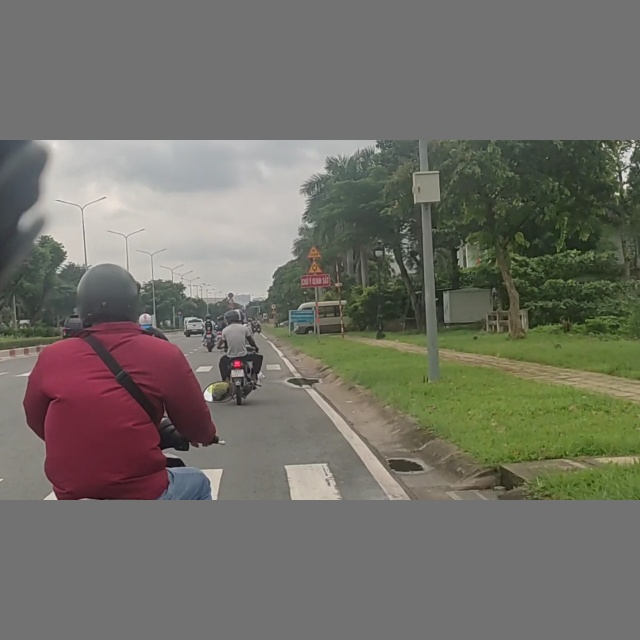P.130: (227, 292, 235, 299)
W.245a: (307, 245, 322, 258)
W.246a: (307, 260, 324, 274)
